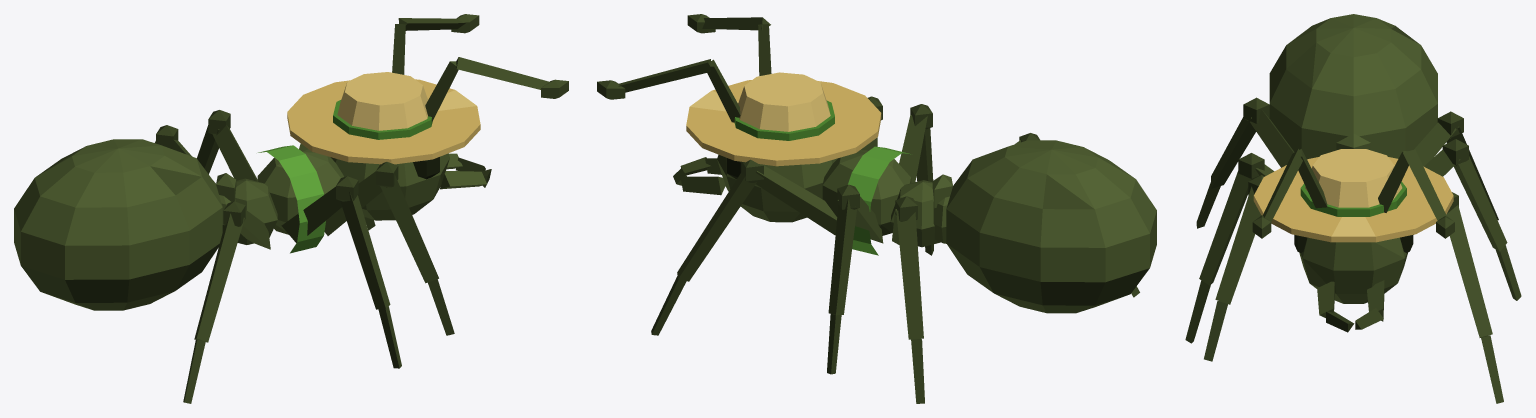
The model's file is ants-gardener.glb.
3 renders of one model, left to right at view 1: azimuth 30°, elevation 25°; view 2: azimuth 150°, elevation 25°; view 3: azimuth 270°, elevation 25°, orthographic. The views are drawn at different scales.
Size of the model in its own units: 13.08 by 6.12 by 7.4.
